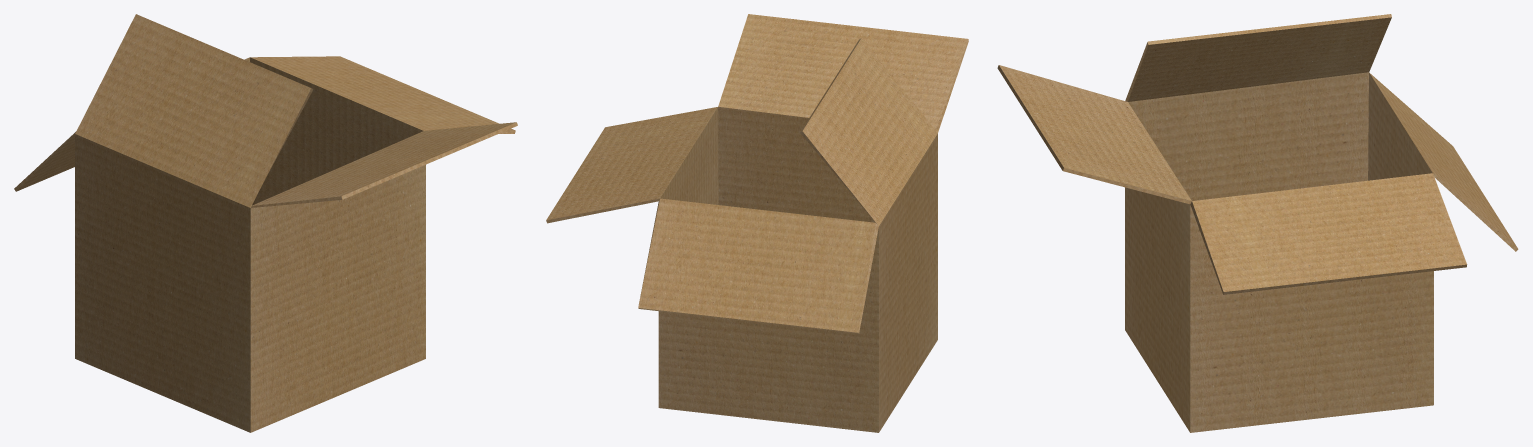
File: CardboardBox.fbx
3 renders of one model, left to right at view 1: azimuth 30°, elevation 25°; view 2: azimuth 150°, elevation 25°; view 3: azimuth 270°, elevation 25°, orthographic. The views are drawn at different scales.
Parts seen in each view (by area): view 1: Cube.075; view 2: Cube.075; view 3: Cube.075.
Part boxes in pixels (box(x1,y1,x2,y2)): Cube.075: box(14, 14, 517, 432); Cube.075: box(546, 14, 968, 432); Cube.075: box(997, 14, 1518, 432).
Bounding box in the file's own units: 110 × 86.3 × 126.
